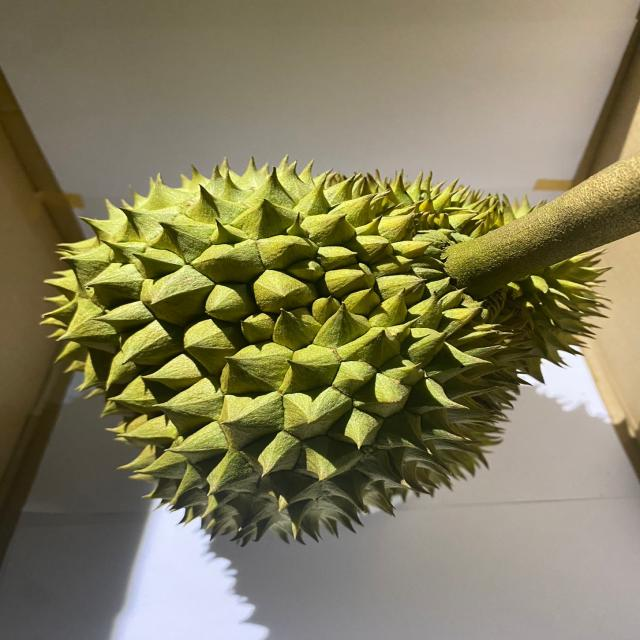immature: (38, 152, 612, 548)
